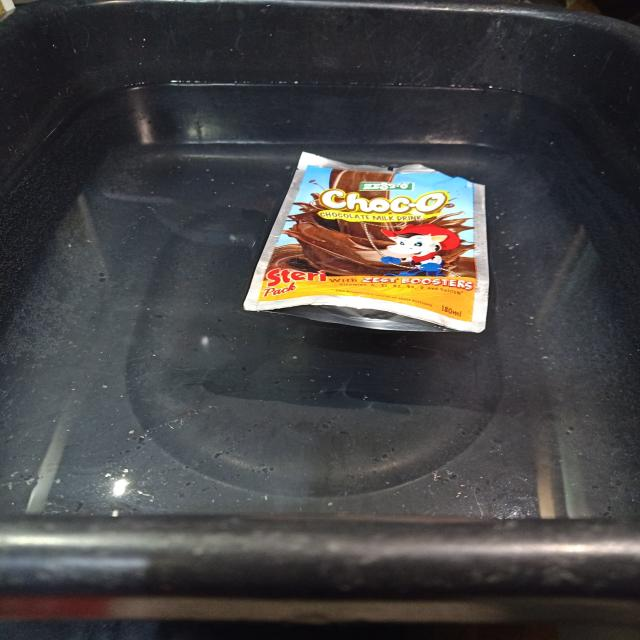Plastic Pouch: (244, 152, 489, 332)
